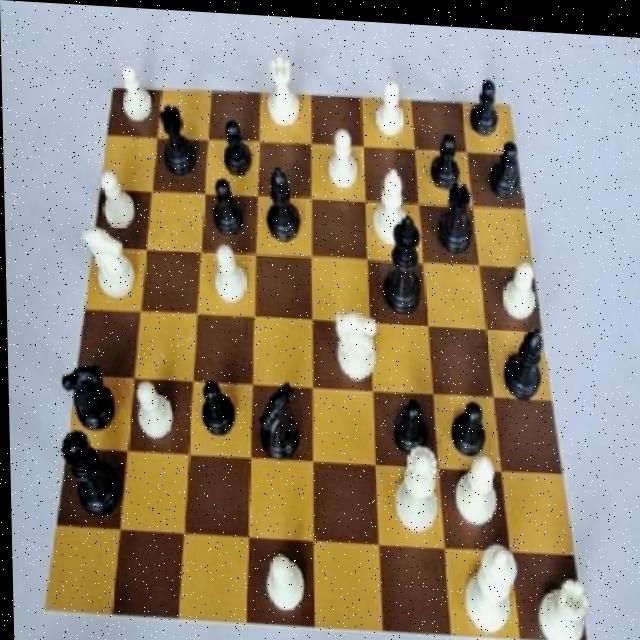bishop: (496, 315, 550, 407), (258, 158, 301, 247)
black-bishop: (376, 202, 427, 317)
black-king: (57, 355, 118, 444), (253, 371, 309, 465)
black-knight: (443, 385, 491, 463), (192, 364, 238, 443), (385, 381, 428, 460), (465, 60, 506, 142), (206, 169, 250, 245), (213, 113, 258, 186), (425, 123, 468, 194), (482, 133, 525, 202)
black-pawn: (54, 425, 121, 527)
black-queen: (152, 98, 206, 189), (430, 171, 479, 265)
black-rook: (367, 157, 417, 247), (452, 440, 498, 528)
white-bishop: (452, 525, 518, 632)
white-king: (79, 220, 142, 308), (326, 295, 382, 383)
white-knight: (492, 244, 542, 326), (128, 372, 178, 453), (257, 536, 307, 614), (94, 164, 143, 234), (112, 56, 158, 130), (205, 231, 249, 308), (368, 69, 413, 144), (320, 119, 363, 195)
white-pawn: (389, 429, 437, 535)
white-queen: (533, 566, 590, 640), (264, 46, 306, 135)
